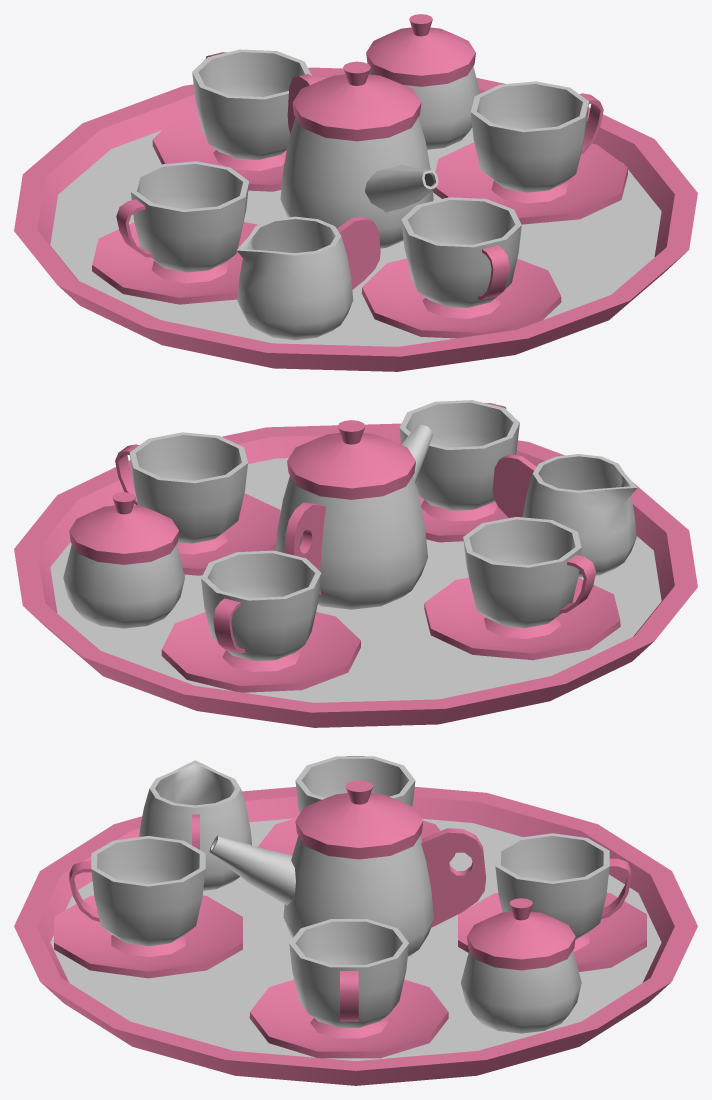
The model's file is TeaTray_01.fbx.
3 views of the same model, one above another, from view 1: azimuth 30°, elevation 25°; view 2: azimuth 150°, elevation 25°; view 3: azimuth 270°, elevation 25° (orthographic).
Visible parts, largest first — view 1: TeaTray_01, TeaPot_01_MilkPot, TeaPot_01, TeaPot_01_Cup_3, TeaPot_01_Cup_1, TeaPot_01_Cup_2, TeaPot_01_Cup_4, TeaPot_01_Plate_2, TeaPot_01_Lid, TeaPot_01_Plate_3, TeaPot_01_Plate_1, TeaPot_01_Lid.001 (+2 smaller); view 2: TeaTray_01, TeaPot_01, TeaPot_01_Cup_1, TeaPot_01_Cup_4, TeaPot_01_Cup_3, TeaPot_01_MilkPot, TeaPot_01_Cup_2, TeaPot_01_Plate_4, TeaPot_01_Plate_1, TeaPot_01_Lid, TeaPot_01_SugarPot, TeaPot_01_Lid.001 (+2 smaller); view 3: TeaTray_01, TeaPot_01, TeaPot_01_Cup_2, TeaPot_01_Cup_3, TeaPot_01_Cup_4, TeaPot_01_Plate_3, TeaPot_01_MilkPot, TeaPot_01_Plate_2, TeaPot_01_Lid, TeaPot_01_SugarPot, TeaPot_01_Lid.001, TeaPot_01_Plate_4 (+2 smaller).
Boxes of the visible parts, x1,y1,x2,y2 form: TeaTray_01: (14,67,697,371); TeaPot_01_MilkPot: (236,216,380,340); TeaPot_01: (280,74,438,248); TeaPot_01_Cup_3: (470,81,603,203); TeaPot_01_Cup_1: (116,161,249,283); TeaPot_01_Cup_2: (401,197,521,318); TeaPot_01_Cup_4: (192,49,311,170); TeaPot_01_Plate_2: (361,258,561,338); TeaPot_01_Lid: (292,61,421,141); TeaPot_01_Plate_3: (432,142,627,224); TeaPot_01_Plate_1: (92,222,257,304); TeaPot_01_Lid.001: (366,14,475,86); TeaTray_01: (14,423,697,727); TeaPot_01: (275,424,432,609); TeaPot_01_Cup_1: (463,517,596,638); TeaPot_01_Cup_4: (201,550,321,671); TeaPot_01_Cup_3: (115,432,247,554); TeaPot_01_MilkPot: (492,454,637,577); TeaPot_01_Cup_2: (399,400,519,521); TeaPot_01_Plate_4: (161,611,360,692); TeaPot_01_Plate_1: (424,577,620,660); TeaPot_01_Lid: (287,420,415,499); TeaPot_01_SugarPot: (63,544,184,628); TeaPot_01_Lid.001: (69,492,178,564); TeaTray_01: (14,787,697,1085); TeaPot_01: (209,828,485,956); TeaPot_01_Cup_2: (69,836,205,957); TeaPot_01_Cup_3: (289,919,409,1038); TeaPot_01_Cup_4: (495,833,631,951); TeaPot_01_Plate_3: (249,979,448,1058); TeaPot_01_MilkPot: (139,760,251,890); TeaPot_01_Plate_2: (54,895,242,978); TeaPot_01_Lid: (295,780,423,859); TeaPot_01_SugarPot: (461,950,581,1033); TeaPot_01_Lid.001: (467,898,575,970); TeaPot_01_Plate_4: (458,893,646,971).
Size of the model in its own units: 0.5262 by 0.1421 by 0.5262.
